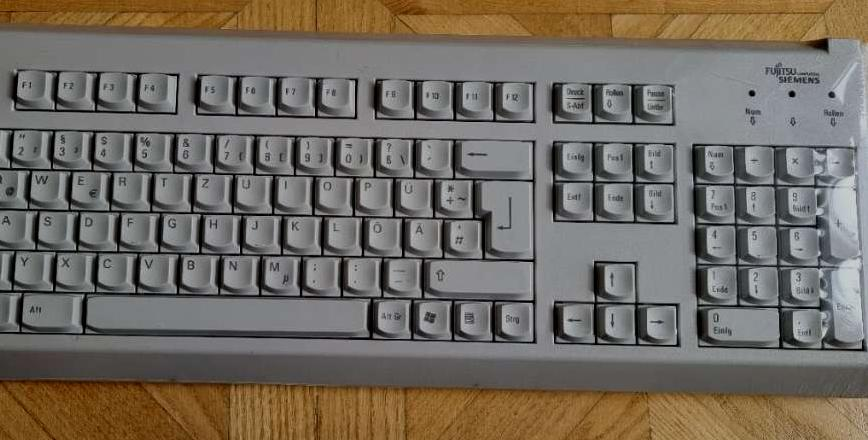0: (335, 134, 369, 170)
1: (1, 126, 18, 160)
2: (10, 127, 44, 161)
3: (51, 128, 85, 163)
4: (92, 129, 125, 164)
5: (133, 130, 166, 164)
6: (174, 130, 207, 165)
7: (214, 131, 249, 167)
8: (255, 132, 290, 169)
9: (295, 134, 330, 169)
a: (1, 207, 25, 241)
accent: (416, 136, 448, 170)
ae: (404, 215, 438, 251)
alt-left: (18, 289, 80, 328)
altgr-right: (372, 296, 409, 333)
b: (178, 251, 212, 287)
c: (94, 250, 128, 285)
caret: (1, 124, 17, 158)
comma: (301, 253, 337, 290)
d: (77, 208, 109, 244)
del: (456, 136, 530, 171)
e: (69, 168, 103, 203)
enter: (476, 175, 531, 254)
f: (119, 209, 151, 244)
g: (159, 210, 193, 245)
h: (201, 211, 234, 245)
hash: (444, 216, 479, 253)
i: (275, 173, 307, 206)
j: (242, 212, 275, 246)
k: (283, 213, 316, 247)
keyboard: (1, 28, 868, 381)
l: (324, 214, 356, 249)
less: (1, 247, 18, 284)
m: (261, 253, 296, 290)
minus: (383, 255, 418, 291)
n: (220, 252, 254, 287)
o: (314, 174, 348, 209)
oe: (364, 214, 398, 250)
p: (355, 175, 387, 208)
plus: (435, 175, 470, 213)
point: (342, 254, 376, 290)
q: (1, 166, 21, 202)
r: (110, 169, 143, 202)
s: (35, 208, 67, 243)
shift-left: (1, 247, 23, 283)
shift-lock: (1, 205, 33, 243)
shift-right: (425, 256, 530, 293)
space: (81, 292, 370, 332)
ss: (375, 135, 409, 171)
strg-left: (1, 287, 31, 326)
strg-right: (493, 299, 533, 339)
t: (153, 170, 185, 204)
tab: (1, 165, 27, 200)
u: (234, 172, 267, 206)
ue: (395, 175, 429, 210)
v: (137, 251, 170, 286)
w: (28, 167, 60, 201)
x: (54, 249, 86, 284)
y: (12, 248, 44, 283)
z: (193, 171, 225, 204)
